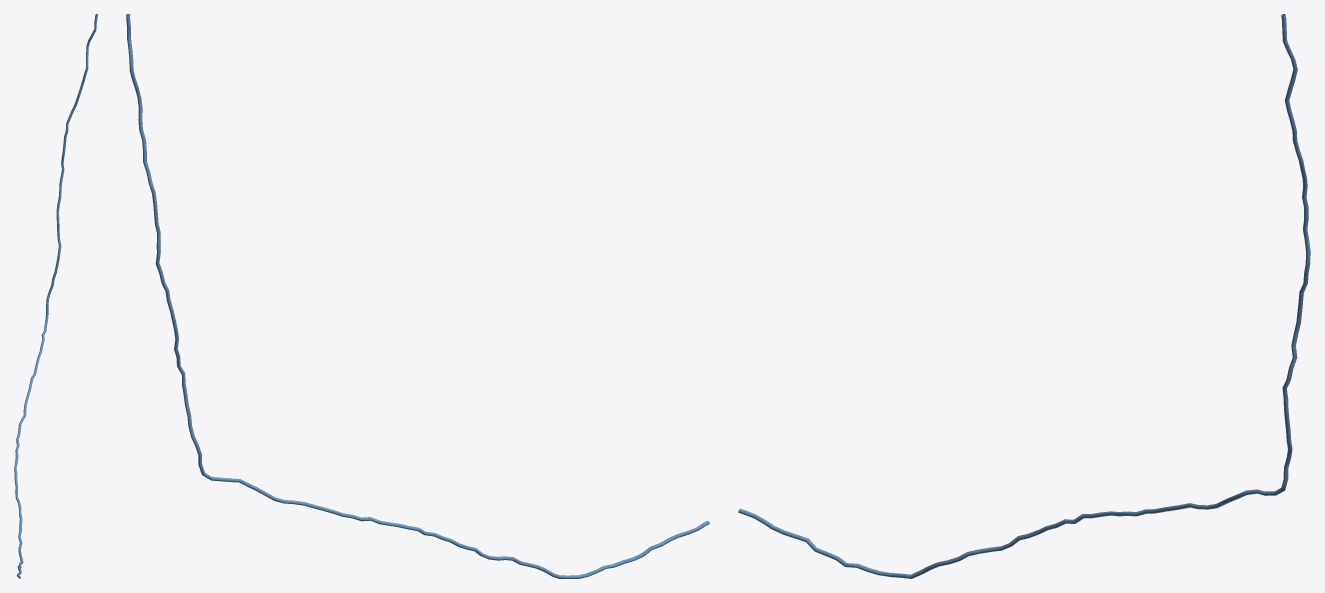
File: sweep170.fbx
3 renders of one model, left to right at view 1: azimuth 30°, elevation 25°; view 2: azimuth 150°, elevation 25°; view 3: azimuth 270°, elevation 25°, orthographic. The views are drawn at different scales.
Parts seen in each view (by area): view 1: sweep170; view 2: sweep170; view 3: sweep170.
Boxes of the visible parts, bbox=[...] form: sweep170: bbox=[14, 14, 97, 578]; sweep170: bbox=[126, 14, 709, 578]; sweep170: bbox=[738, 14, 1310, 578].
Bounding box in the file's own units: 2.07 × 3.48 × 2.49.
